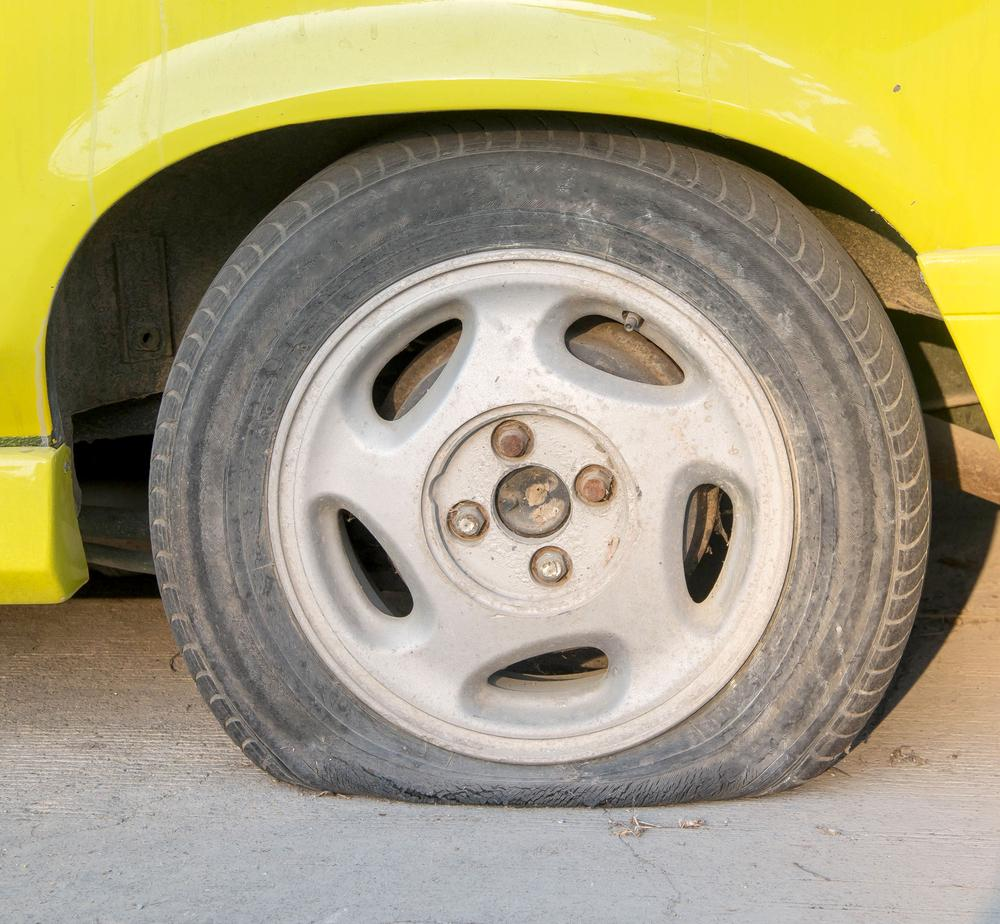tire flat: (149, 115, 932, 809)
